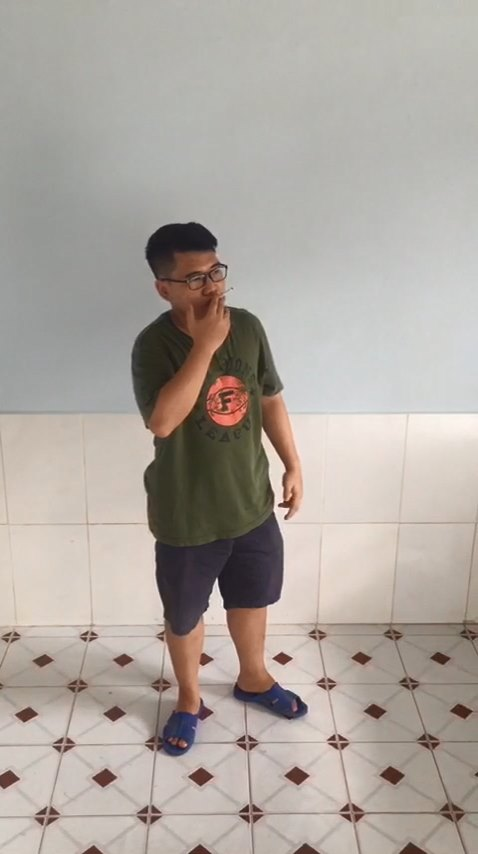cigarette: (207, 288, 236, 300)
person: (103, 204, 342, 768)
